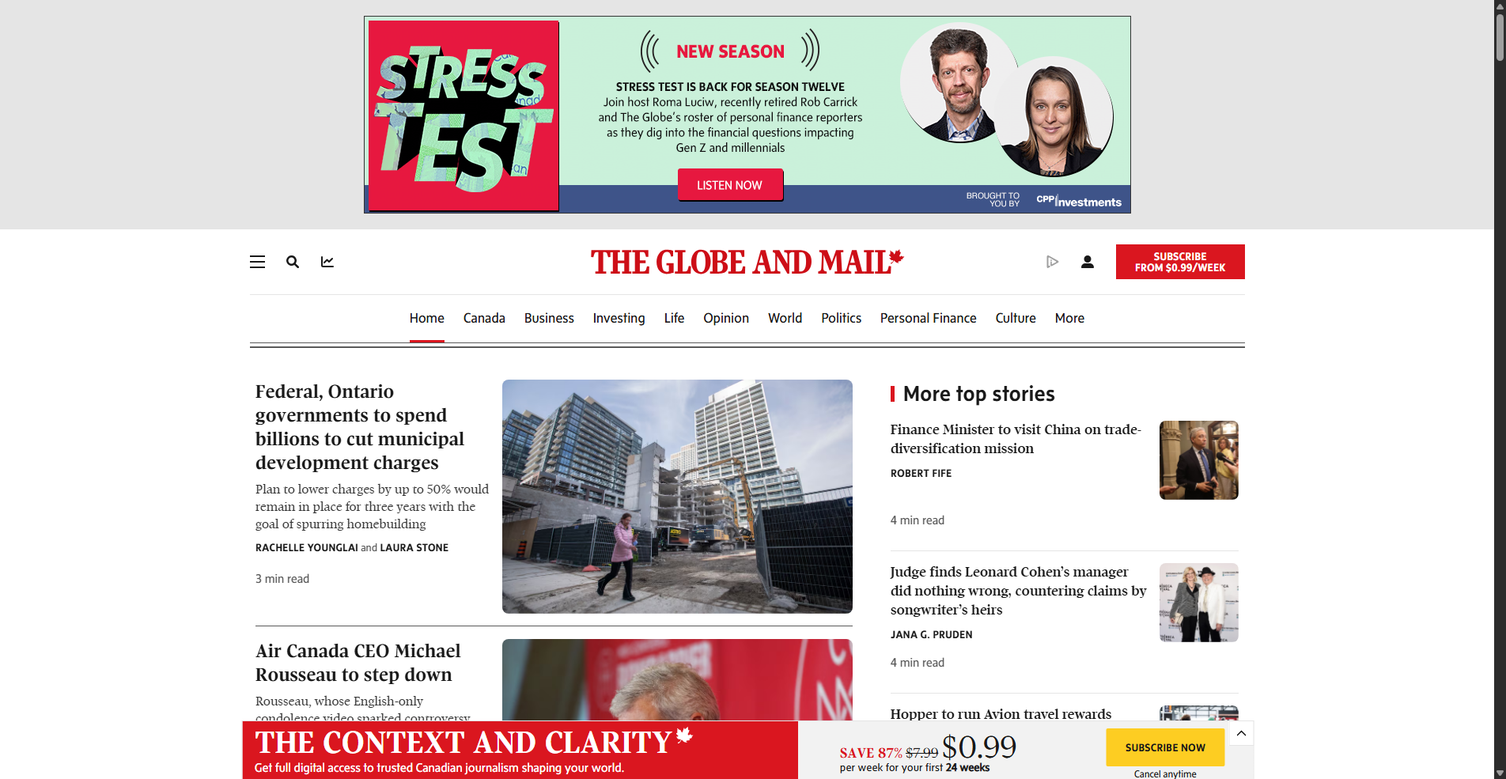button: (1116, 244, 1245, 279), (1135, 251, 1226, 273), (240, 244, 275, 279), (275, 244, 310, 279), (1035, 244, 1070, 279), (1070, 244, 1105, 279), (454, 562, 489, 597), (1169, 503, 1204, 538), (1204, 503, 1239, 538), (310, 244, 344, 279), (420, 562, 454, 597), (1169, 646, 1204, 680), (1204, 646, 1239, 680), (250, 256, 265, 268), (1180, 514, 1193, 527), (1215, 514, 1228, 527), (286, 256, 299, 268), (1046, 256, 1059, 268), (1081, 256, 1094, 268), (431, 573, 443, 586), (466, 573, 478, 586), (1180, 657, 1193, 669), (1215, 657, 1228, 669), (321, 256, 333, 268)
link: (502, 380, 853, 614), (502, 639, 853, 779), (255, 376, 464, 479), (891, 558, 1147, 624), (891, 415, 1142, 463), (255, 635, 461, 690), (891, 700, 1112, 748), (589, 248, 905, 275), (1160, 421, 1239, 500), (1160, 563, 1239, 642), (1160, 706, 1239, 779), (880, 295, 977, 343), (593, 295, 645, 343), (524, 295, 574, 343), (703, 295, 749, 343), (463, 295, 505, 343), (821, 295, 861, 343), (996, 295, 1036, 343), (409, 295, 444, 343), (768, 295, 802, 343), (1055, 295, 1085, 343), (664, 295, 684, 343), (8, 8, 24, 24)
